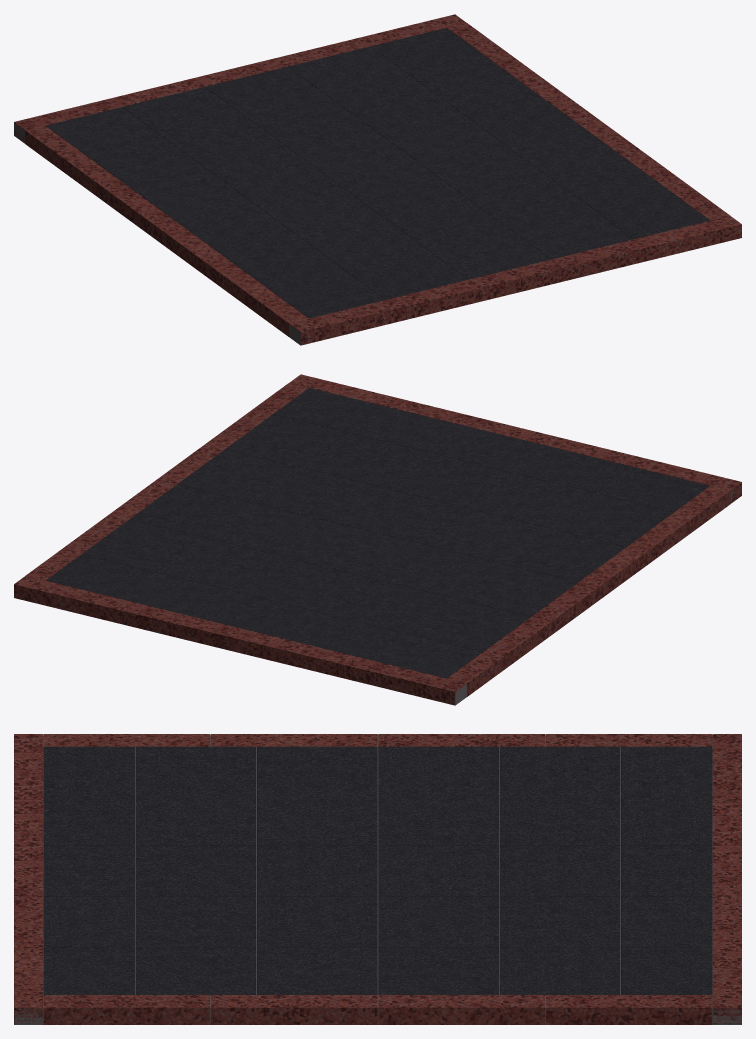
File: floor-bordo-large.glb
The picture shows the model from 3 angles, top to bottom: view 1: azimuth 30°, elevation 25°; view 2: azimuth 150°, elevation 25°; view 3: azimuth 270°, elevation 25°; orthographic projection. The views are drawn at different scales.
Parts seen in each view (by area): view 1: Stone_field_bordo, Stone_edge_bordo; view 2: Stone_field_bordo, Stone_edge_bordo; view 3: Stone_field_bordo, Stone_edge_bordo, Joint_and_bedding_bordo.
Part boxes in pixels (x1,y1,x2,y2): Stone_field_bordo: (46,27,709,318); Stone_edge_bordo: (14,14,741,345); Stone_field_bordo: (46,387,709,678); Stone_edge_bordo: (14,374,741,705); Stone_field_bordo: (43,746,712,995); Stone_edge_bordo: (14,734,741,1024); Joint_and_bedding_bordo: (14,734,741,1024).
Size of the model in its own units: 3.2 by 0.096 by 3.6.
3 materials, 2 textured.
